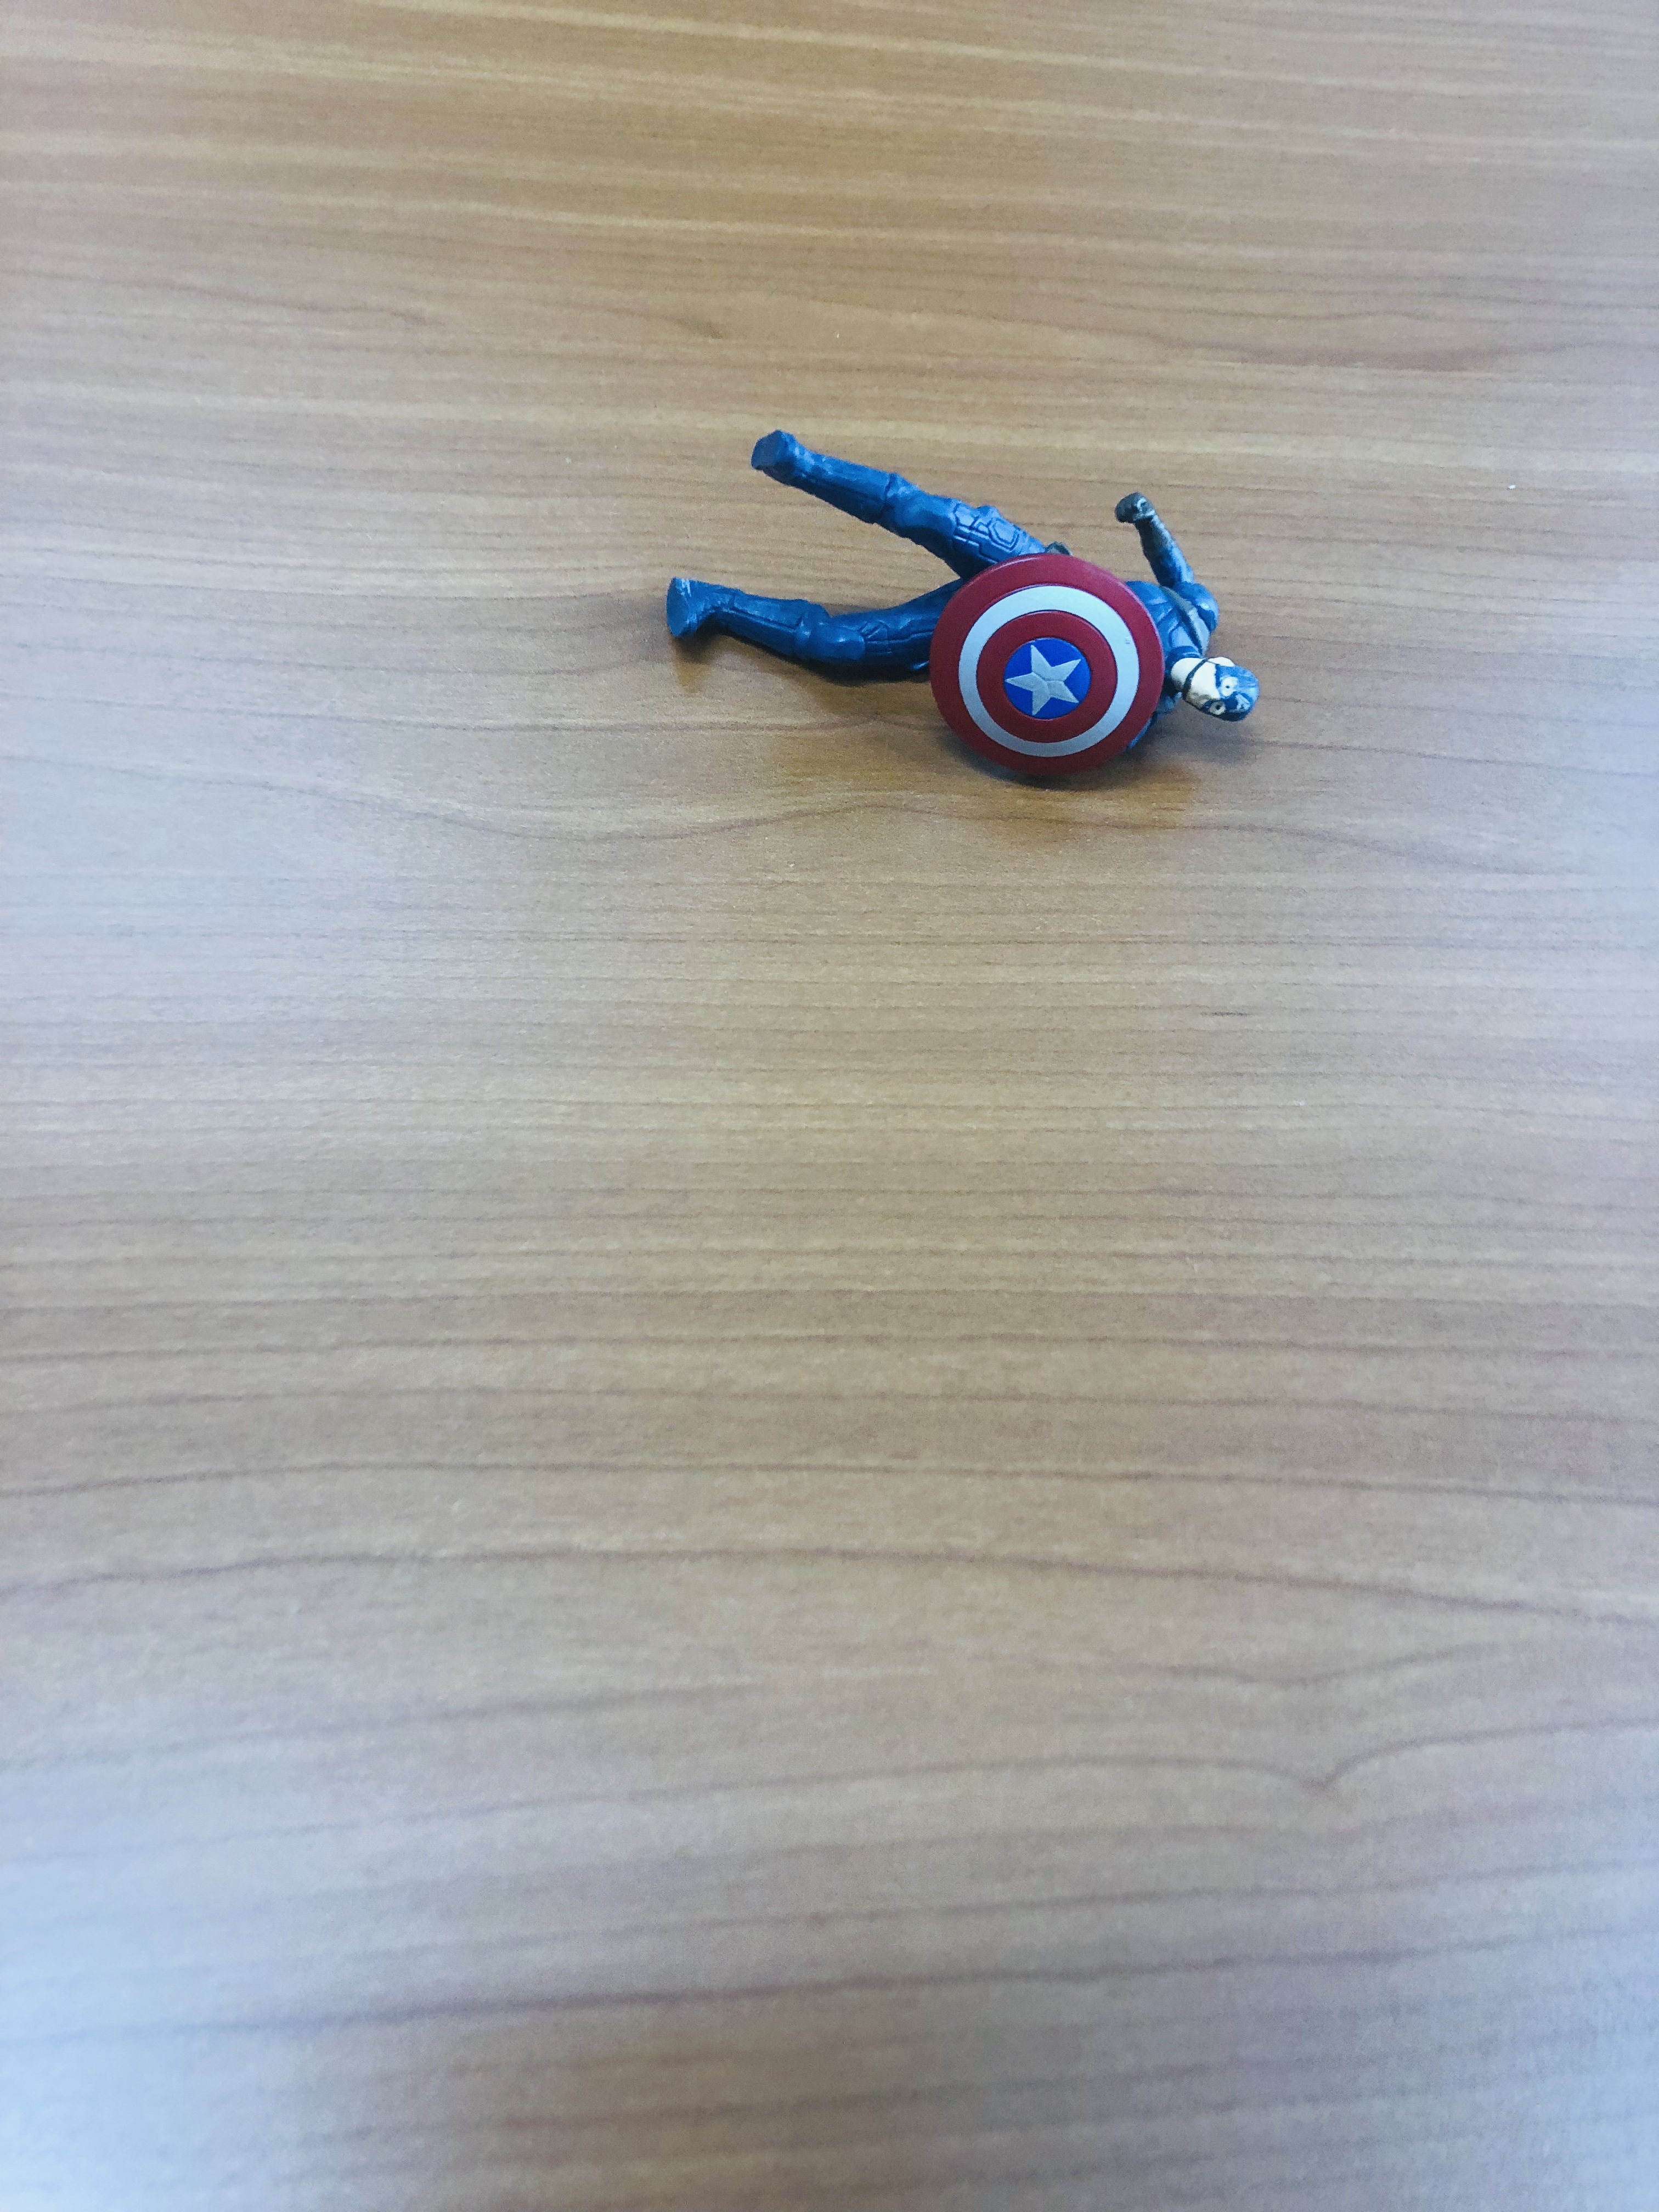people: (637, 358, 1282, 816)
